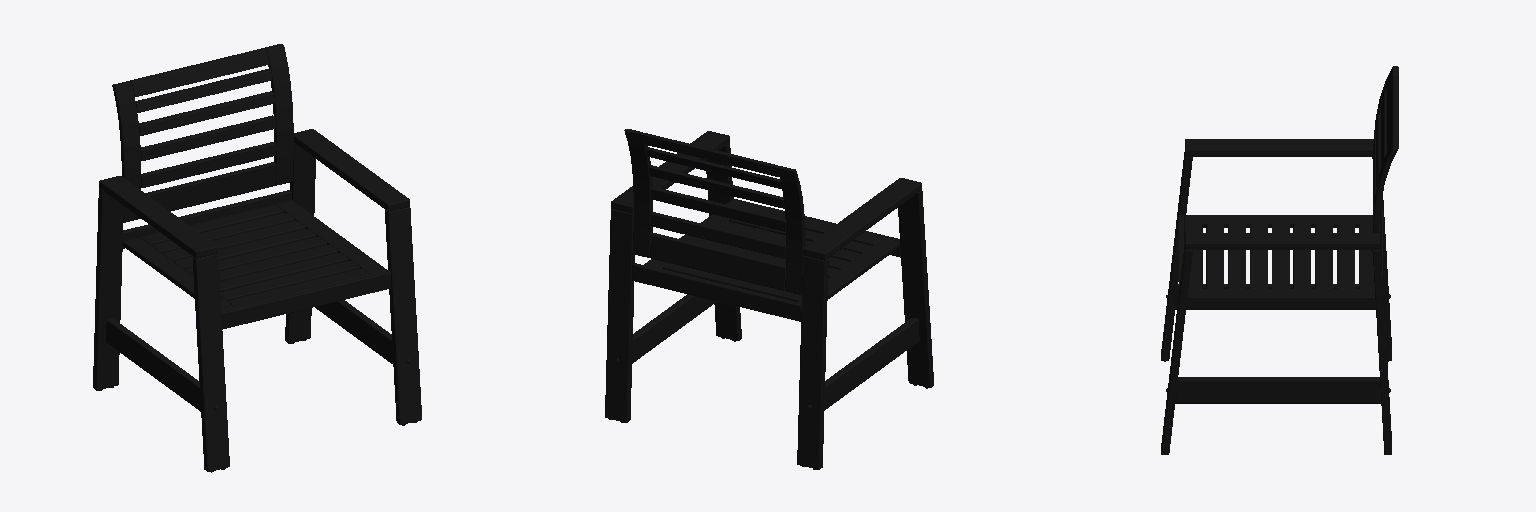
Rendered from chair1.obj.
The picture shows the model from 3 angles: view 1: azimuth 30°, elevation 25°; view 2: azimuth 150°, elevation 25°; view 3: azimuth 270°, elevation 25°; orthographic projection.
Visible parts, largest first — view 1: 10_PROVIZ_INFO_APPLARO_ARMCHAIR; view 2: 10_PROVIZ_INFO_APPLARO_ARMCHAIR; view 3: 10_PROVIZ_INFO_APPLARO_ARMCHAIR.
Boxes of the visible parts, box(x1,y1,x2,y2) form: 10_PROVIZ_INFO_APPLARO_ARMCHAIR: box(93, 44, 421, 472); 10_PROVIZ_INFO_APPLARO_ARMCHAIR: box(605, 129, 933, 469); 10_PROVIZ_INFO_APPLARO_ARMCHAIR: box(1161, 66, 1398, 454).
Bounding box in the file's own units: 62 × 82 × 59.3.